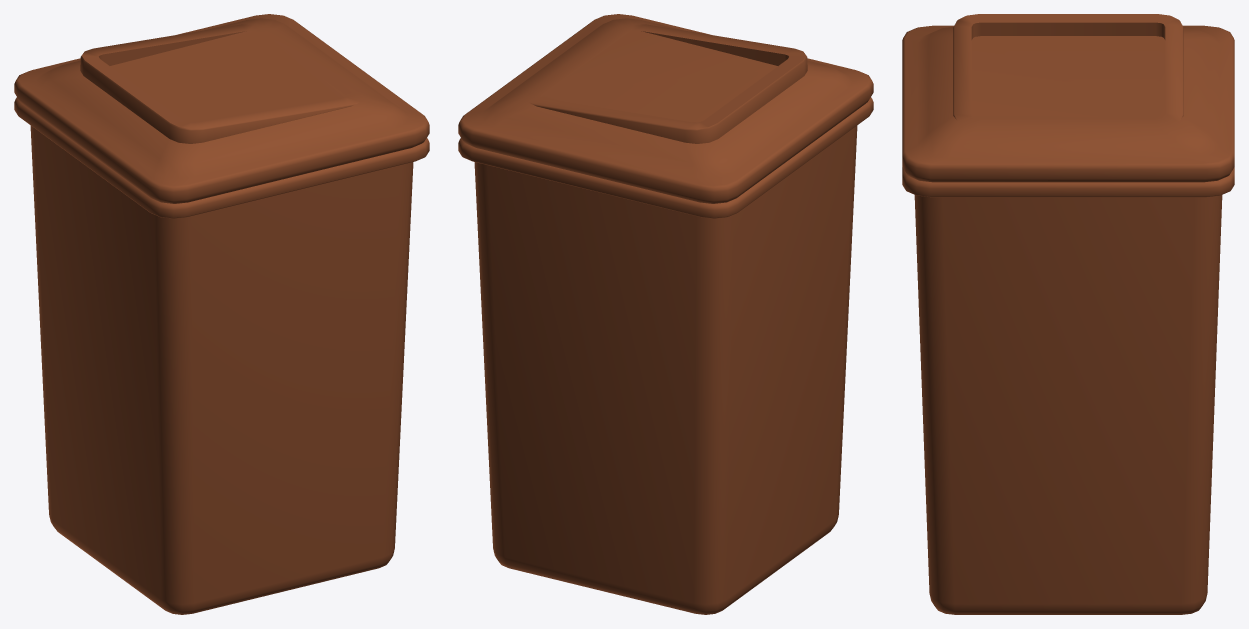
The model's file is Bin_Closed.fbx.
The picture shows the model from 3 angles, left to right: view 1: azimuth 30°, elevation 25°; view 2: azimuth 150°, elevation 25°; view 3: azimuth 270°, elevation 25°; orthographic projection. The views are drawn at different scales.
Parts seen in each view (by area): view 1: Bin_Closed; view 2: Bin_Closed; view 3: Bin_Closed.
Boxes of the visible parts, <box> form: Bin_Closed: <box>14,14,429,614</box>; Bin_Closed: <box>458,14,873,614</box>; Bin_Closed: <box>902,14,1234,614</box>.
Size of the model in its own units: 80.63 by 133 by 80.63.
